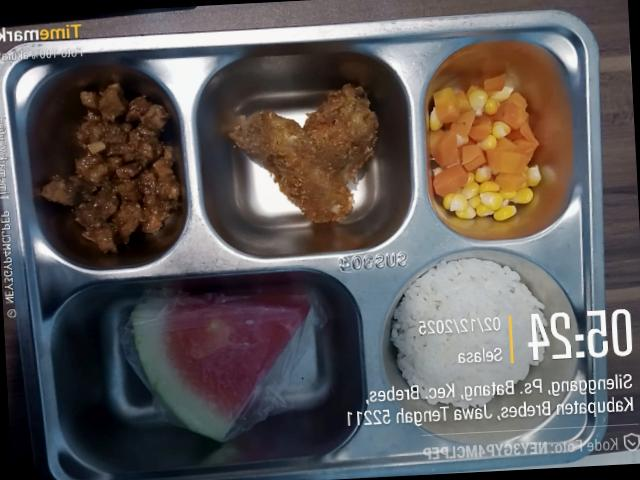ayam: (230, 84, 378, 222)
buah: (131, 293, 310, 440)
nasi: (391, 258, 547, 408)
sayur: (430, 73, 542, 221)
tempe: (42, 83, 181, 252)
